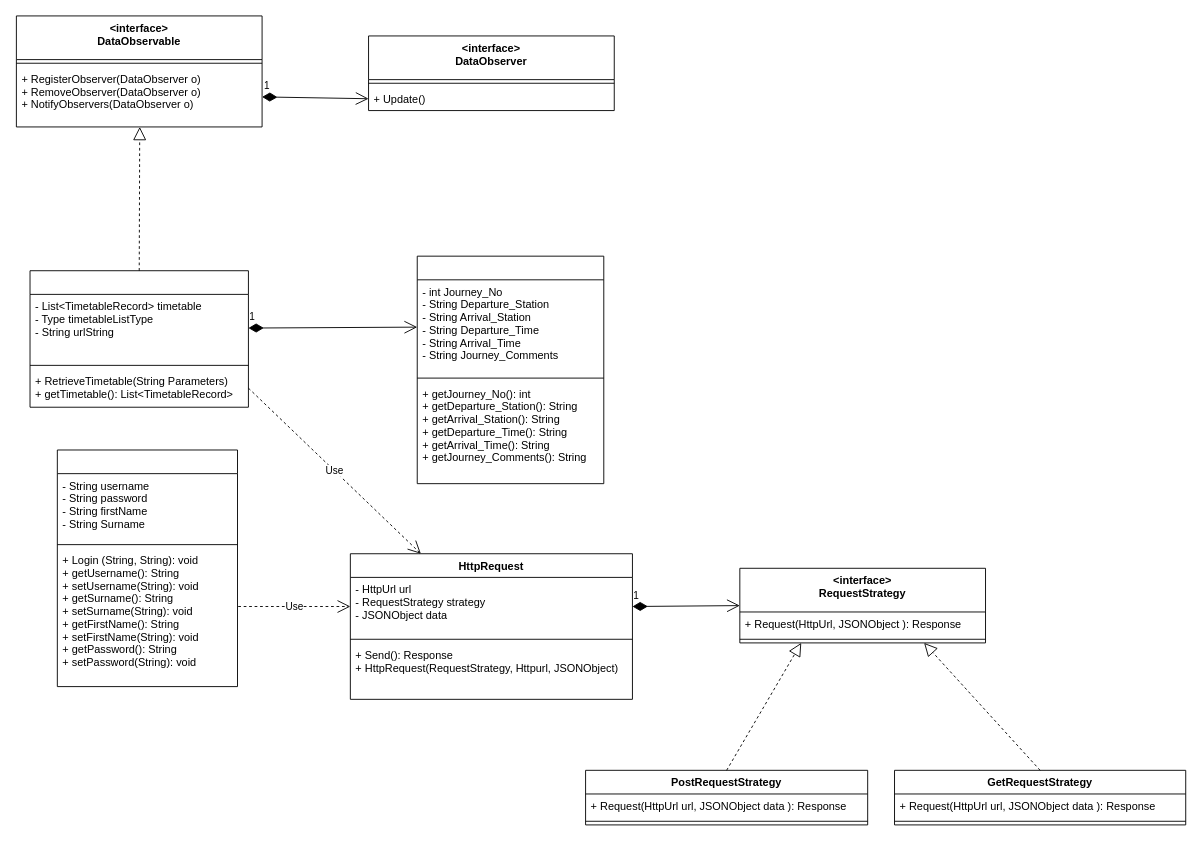
Image size: 1201x841. Some labels were removed from this diagram. Here are the shapes that lost their labels. From the top down, the box of each, then its label:
(29, 270, 248, 407): TimetableHolder
(416, 255, 604, 484): TimetableRecord
(56, 449, 238, 687): Customer
